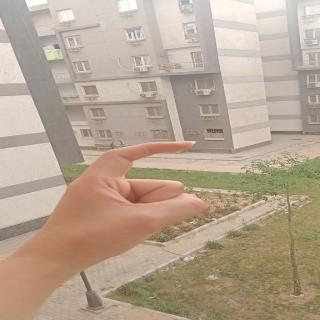RAA: (58, 134, 232, 264)
